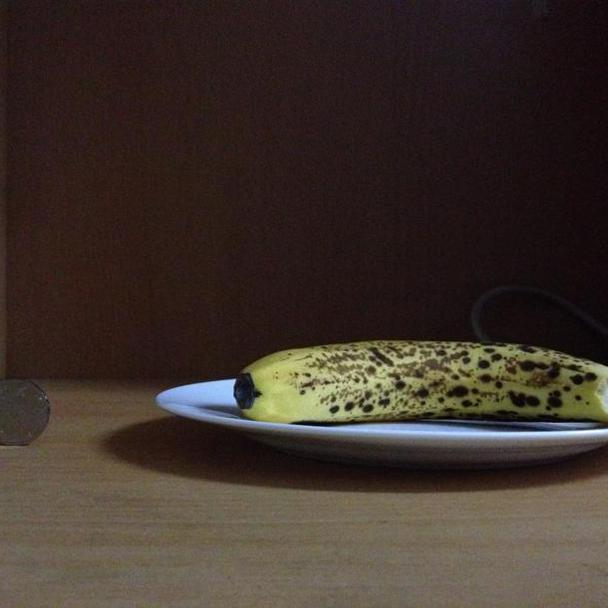banana: (227, 337, 608, 431)
